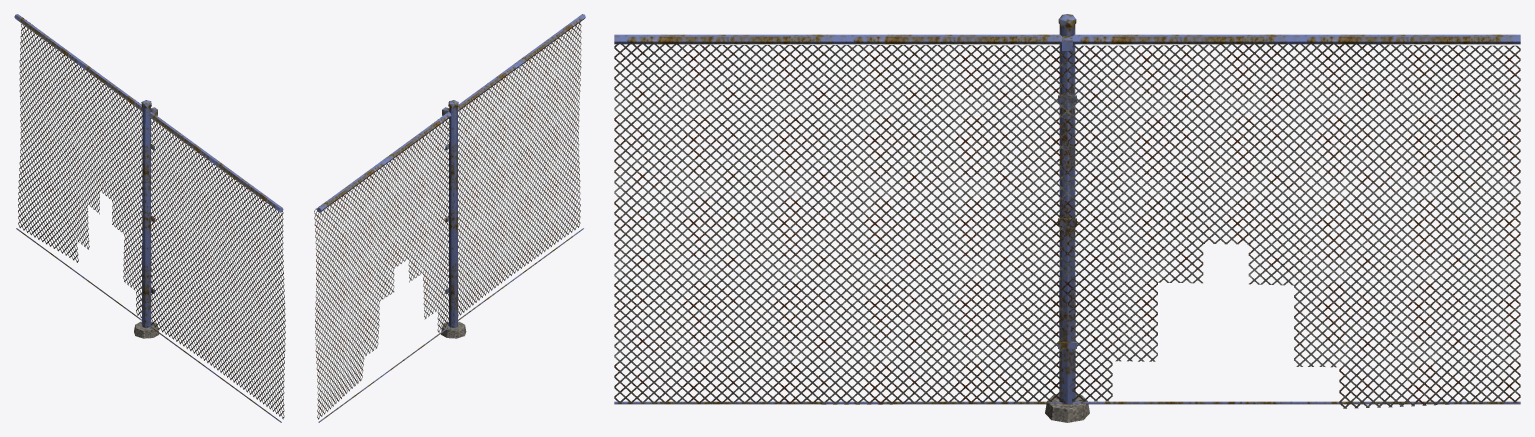
File: fence_chainlink_4m.glb
3 views of the same model, side by side, from view 1: azimuth 30°, elevation 25°; view 2: azimuth 150°, elevation 25°; view 3: azimuth 270°, elevation 25° (orthographic). The views are drawn at different scales.
Parts seen in each view (by area): view 1: fence_chainlink_4m_chainlink, fence_chainlink_4m_galvanized, fence_chainlink_4m_concrete; view 2: fence_chainlink_4m_chainlink, fence_chainlink_4m_galvanized, fence_chainlink_4m_concrete; view 3: fence_chainlink_4m_chainlink, fence_chainlink_4m_galvanized, fence_chainlink_4m_concrete.
Boxes of the visible parts, left/top/right/bottom form: fence_chainlink_4m_chainlink: left=18, top=20, right=285, bottom=419; fence_chainlink_4m_galvanized: left=14, top=14, right=283, bottom=422; fence_chainlink_4m_concrete: left=134, top=321, right=159, bottom=338; fence_chainlink_4m_chainlink: left=314, top=22, right=581, bottom=419; fence_chainlink_4m_galvanized: left=316, top=14, right=585, bottom=422; fence_chainlink_4m_concrete: left=441, top=321, right=466, bottom=338; fence_chainlink_4m_chainlink: left=614, top=43, right=1520, bottom=408; fence_chainlink_4m_galvanized: left=614, top=14, right=1520, bottom=404; fence_chainlink_4m_concrete: left=1045, top=394, right=1089, bottom=422.
Bounding box in the file's own units: 0.2029 × 1.94 × 4.
Materials: 3 (3 with a texture image).
